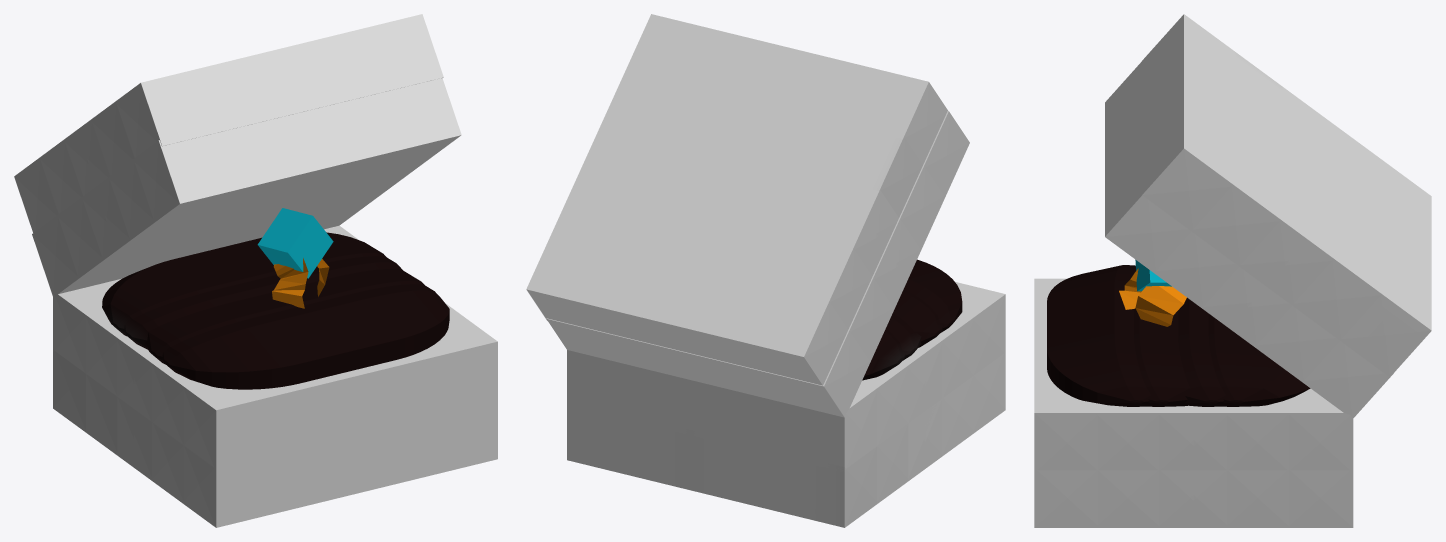
The model's file is Csae.fbx.
3 views of the same model, side by side, from view 1: azimuth 30°, elevation 25°; view 2: azimuth 150°, elevation 25°; view 3: azimuth 270°, elevation 25° (orthographic). The views are drawn at different scales.
Parts seen in each view (by area): view 1: Skirt; view 2: Skirt; view 3: Skirt.
Boxes of the visible parts, x1=… form: Skirt: x1=14, y1=14, x2=497, y2=527; Skirt: x1=526, y1=14, x2=1005, y2=527; Skirt: x1=1034, y1=14, x2=1431, y2=527.
Bounding box in the file's own units: 0.1445 × 0.1893 × 0.1795.
